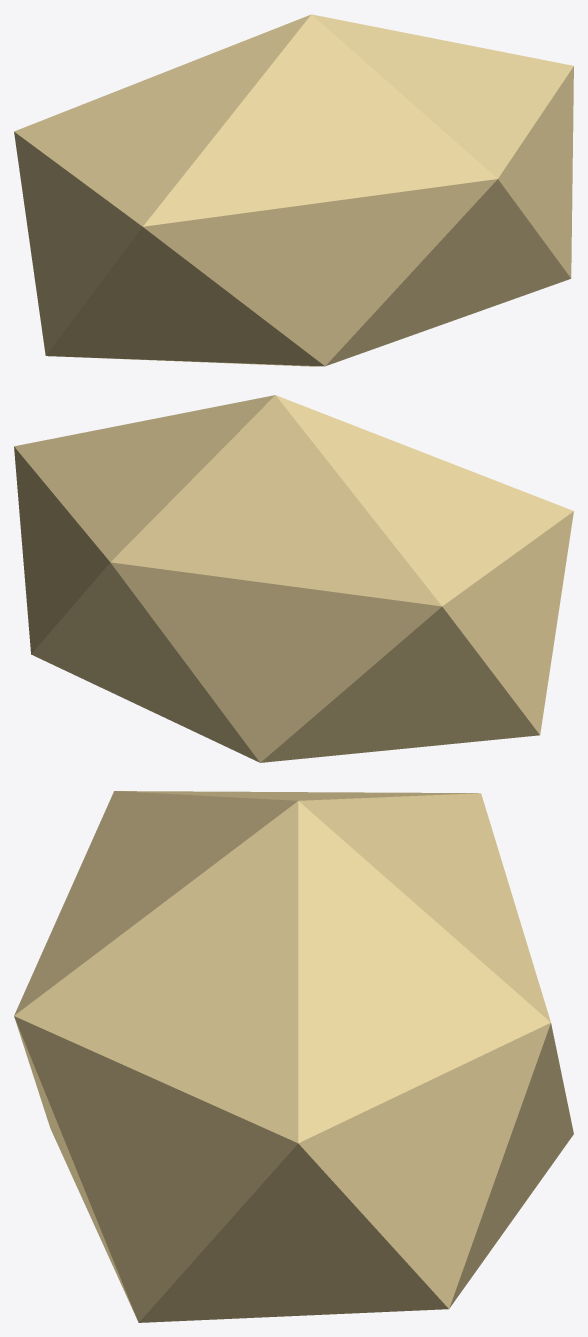
The model's file is item_061_rye_s.glb.
3 renders of one model, top to bottom at view 1: azimuth 30°, elevation 25°; view 2: azimuth 150°, elevation 25°; view 3: azimuth 270°, elevation 25°, orthographic. The views are drawn at different scales.
Visible parts, largest first — view 1: item_061_rye_s; view 2: item_061_rye_s; view 3: item_061_rye_s.
Part boxes in pixels (bbox=[...]): item_061_rye_s: bbox=[14, 14, 573, 366]; item_061_rye_s: bbox=[14, 395, 573, 762]; item_061_rye_s: bbox=[14, 791, 573, 1322].
Bounding box in the file's own units: 0.318 × 0.2025 × 0.2076.
